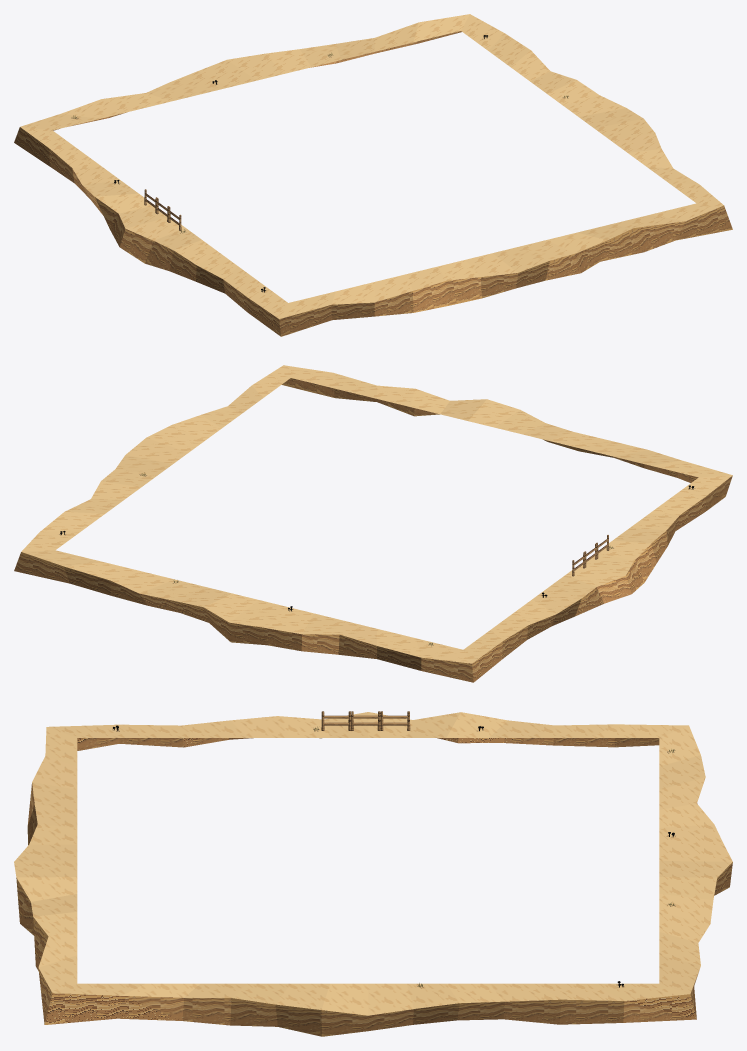
File: entorno_18.fbx
3 renders of one model, top to bottom at view 1: azimuth 30°, elevation 25°; view 2: azimuth 150°, elevation 25°; view 3: azimuth 270°, elevation 25°, orthographic. The views are drawn at different scales.
Parts seen in each view (by area): view 1: deserto_entorno_18; view 2: deserto_entorno_18; view 3: deserto_entorno_18.
Boxes of the visible parts, <box> form: deserto_entorno_18: <box>14,14,732,336</box>; deserto_entorno_18: <box>14,365,732,682</box>; deserto_entorno_18: <box>14,711,732,1036</box>.
Size of the model in its own units: 2260 by 169 by 2249.
7 materials, 5 textured.
